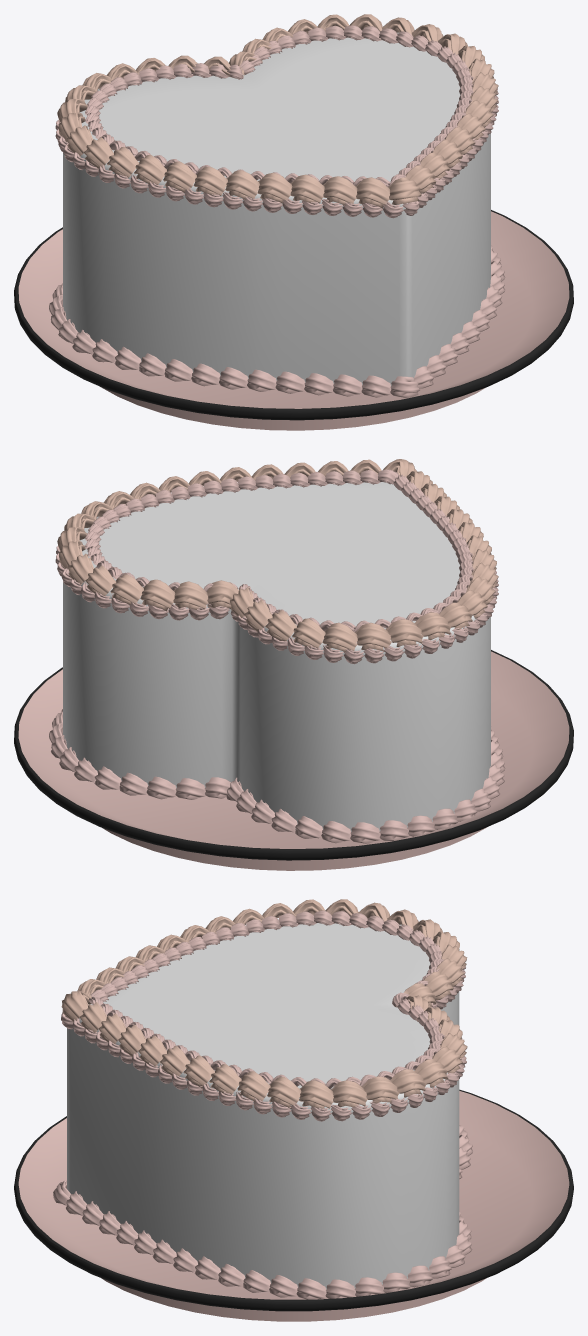
File: heart_cake.glb
3 renders of one model, top to bottom at view 1: azimuth 30°, elevation 25°; view 2: azimuth 150°, elevation 25°; view 3: azimuth 270°, elevation 25°, orthographic.
Parts seen in each view (by area): view 1: cake, dish_01, decoration_top_01, decoration_bottom_03, decoration_top_03, dish_02, decoration_top_02; view 2: cake, dish_01, decoration_top_01, decoration_bottom_03, decoration_top_03, dish_02, decoration_top_02; view 3: cake, dish_01, decoration_top_01, decoration_bottom_03, decoration_top_03, dish_02, decoration_top_02.
Boxes of the visible parts, x1,y1,x2,y2 form: cake: (63, 32, 490, 385); dish_01: (18, 211, 569, 430); decoration_top_01: (57, 14, 498, 208); decoration_bottom_03: (49, 245, 505, 397); decoration_top_03: (85, 25, 473, 186); dish_02: (14, 210, 573, 420); decoration_top_02: (55, 88, 498, 218); cake: (63, 482, 490, 831); dish_01: (18, 651, 569, 870); decoration_top_01: (57, 459, 498, 651); decoration_bottom_03: (49, 709, 505, 843); decoration_top_03: (85, 469, 474, 632); dish_02: (14, 650, 573, 860); decoration_top_02: (55, 546, 498, 664); cake: (67, 923, 459, 1289); dish_01: (18, 1091, 569, 1321); decoration_top_01: (61, 899, 467, 1109); decoration_bottom_03: (53, 1125, 472, 1299); decoration_top_03: (89, 910, 444, 1089); dish_02: (14, 1089, 573, 1311); decoration_top_02: (61, 915, 466, 1121).
Bounding box in the file's own units: 5.04 × 2.31 × 5.05.
